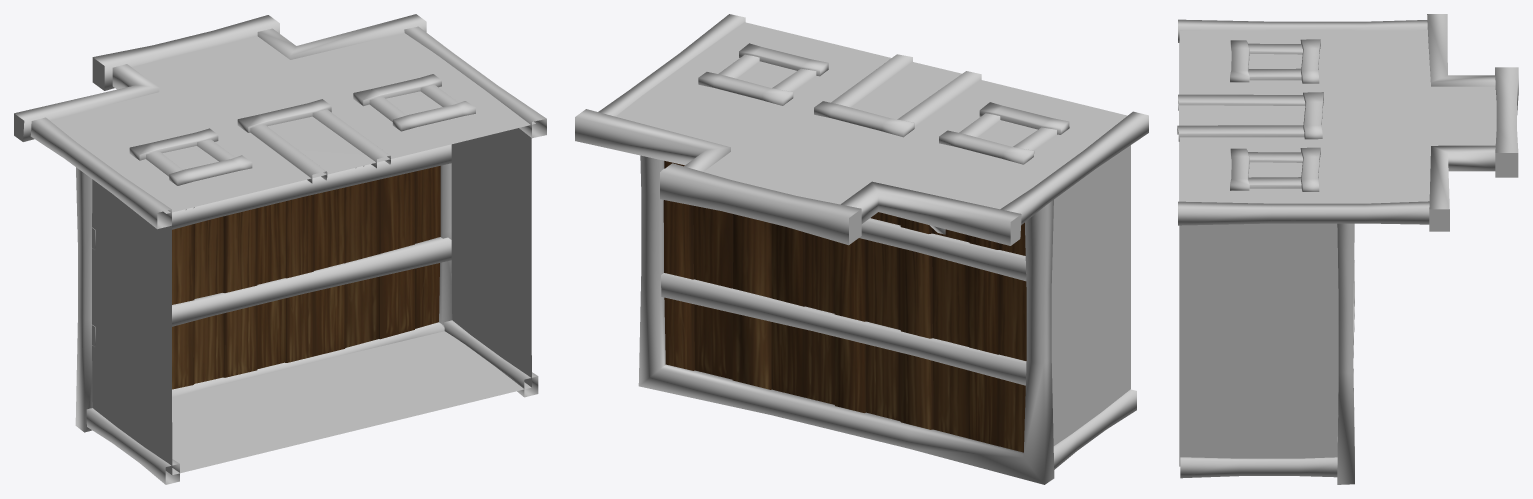
The model's file is City_Building_01.FBX.
The picture shows the model from 3 angles, left to right: view 1: azimuth 30°, elevation 25°; view 2: azimuth 150°, elevation 25°; view 3: azimuth 270°, elevation 25°; orthographic projection. The views are drawn at different scales.
Parts seen in each view (by area): view 1: City_Building_01, City_Building_face_01, City_Building_roof_01; view 2: City_Building_face_01, City_Building_01, City_Building_roof_01; view 3: City_Building_face_01, City_Building_01.
Boxes of the visible parts, x1,y1,x2,y2 form: City_Building_01: (75,128,538,484); City_Building_face_01: (14,14,546,229); City_Building_roof_01: (172,166,440,389); City_Building_face_01: (575,14,1148,245); City_Building_01: (638,145,1136,484); City_Building_roof_01: (663,161,1026,452); City_Building_face_01: (1177,14,1518,231); City_Building_01: (1179,42,1354,484).
Bounding box in the file's own units: 8.88 × 6 × 6.56.
